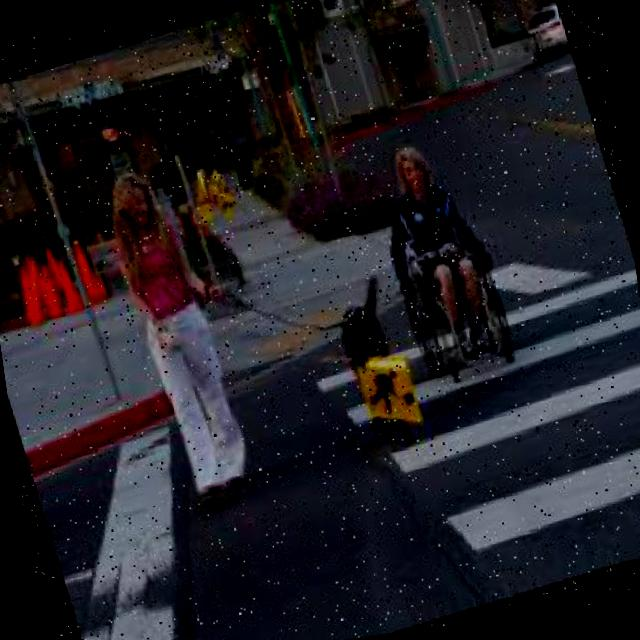Person: (95, 149, 283, 519), (356, 124, 528, 402)
